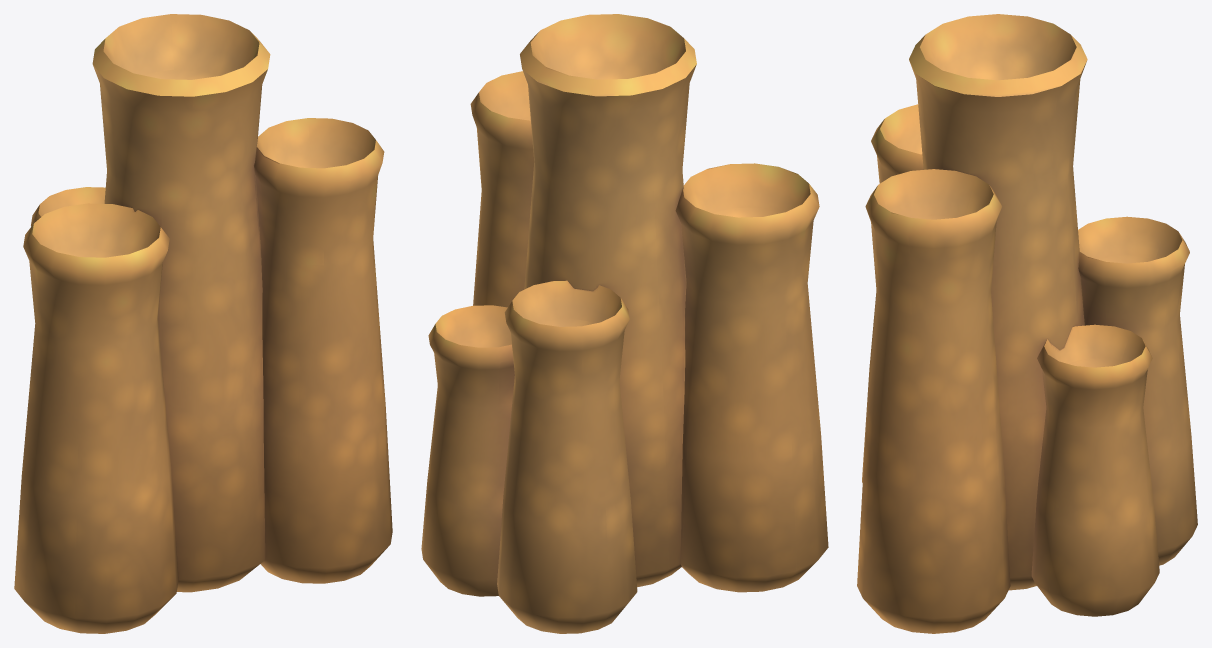
Rendered from WM_CoralFan_C.fbx.
3 renders of one model, left to right at view 1: azimuth 30°, elevation 25°; view 2: azimuth 150°, elevation 25°; view 3: azimuth 270°, elevation 25°, orthographic.
Visible parts, largest first — view 1: WM_CoralFan_C_LOD0; view 2: WM_CoralFan_C_LOD0; view 3: WM_CoralFan_C_LOD0.
Boxes of the visible parts, x1,y1,x2,y2 form: WM_CoralFan_C_LOD0: [14, 14, 392, 633]; WM_CoralFan_C_LOD0: [421, 14, 828, 633]; WM_CoralFan_C_LOD0: [857, 14, 1197, 633].
Size of what is drawn, in the model's own units: 0.757 by 1.05 by 0.635.
